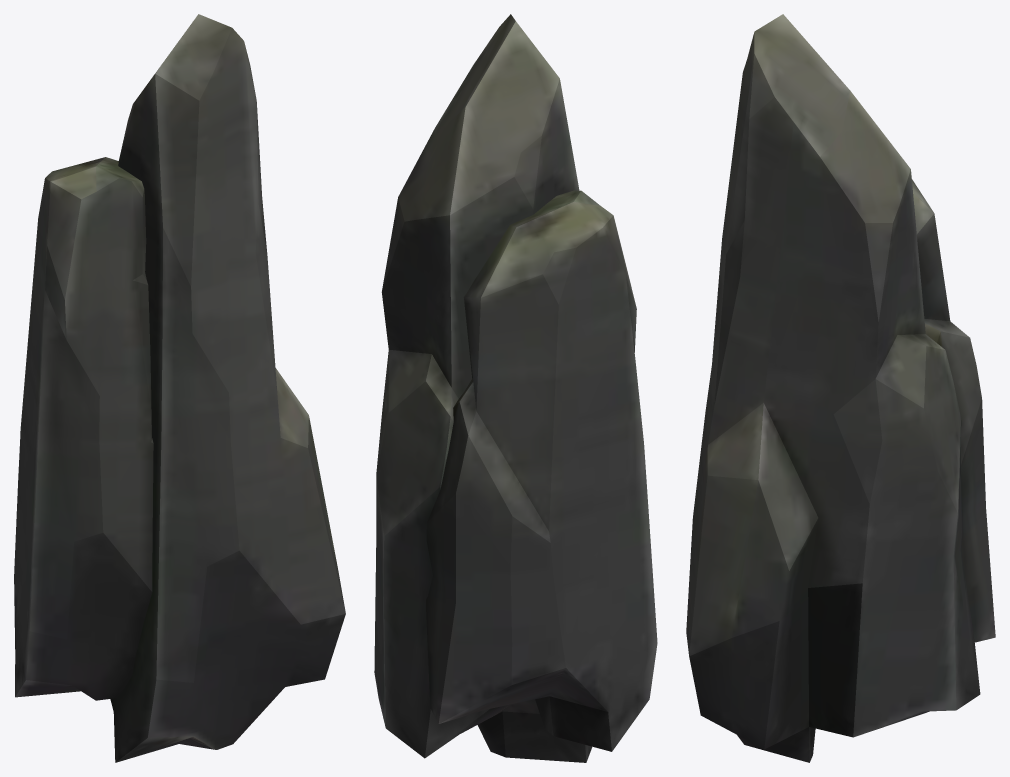
Rendered from rock_4.glb.
The picture shows the model from 3 angles, left to right: view 1: azimuth 30°, elevation 25°; view 2: azimuth 150°, elevation 25°; view 3: azimuth 270°, elevation 25°; orthographic projection. The views are drawn at different scales.
Visible parts, largest first — view 1: Rock_4; view 2: Rock_4; view 3: Rock_4.
Part boxes in pixels (x1,y1,x2,y2): Rock_4: [14, 14, 345, 762]; Rock_4: [374, 14, 657, 762]; Rock_4: [686, 14, 995, 762].
Size of the model in its own units: 0.8592 by 2.15 by 0.8124.
Materials: 1 (1 with a texture image).
